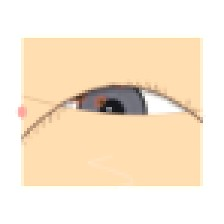foreign_body_visible: (56, 78, 99, 113)
